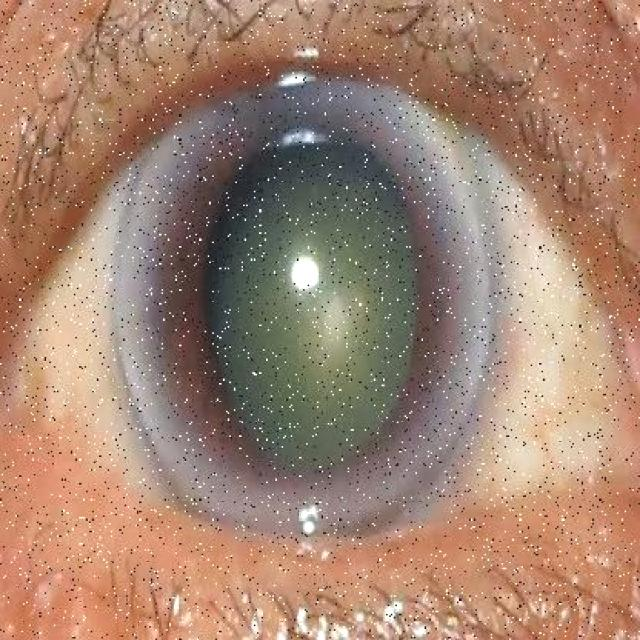Cataract: (85, 49, 518, 570)
